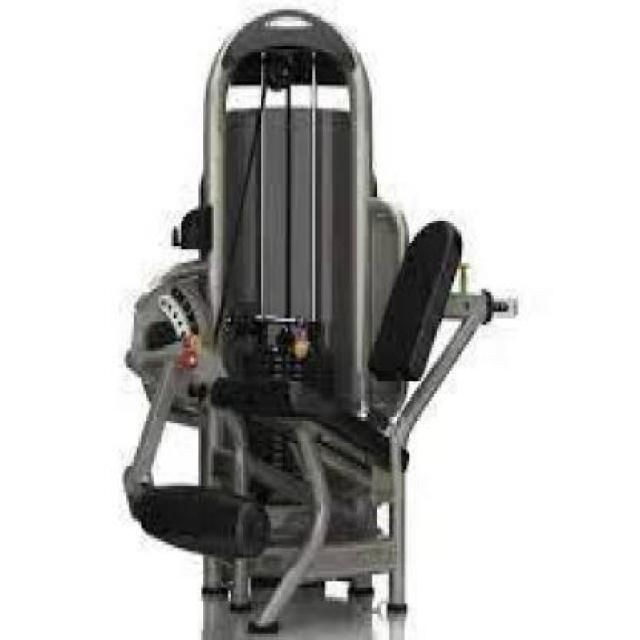leg extension: (95, 7, 519, 640)
